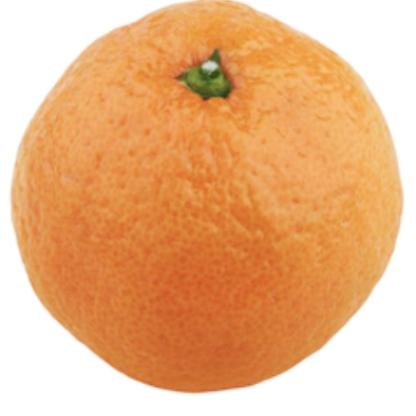fresh: (12, 1, 404, 396)
